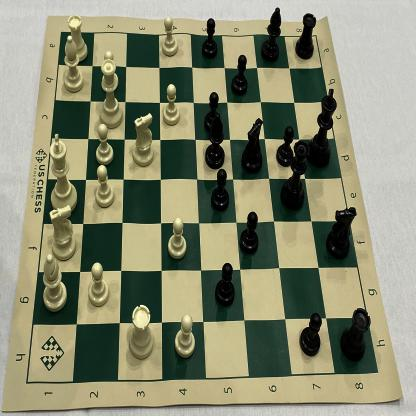bishop: (41, 254, 68, 313), (200, 113, 226, 172), (62, 36, 86, 94), (261, 5, 283, 64)
king: (308, 86, 338, 170), (49, 133, 78, 215)
knight: (46, 204, 78, 260), (326, 206, 358, 260), (130, 111, 156, 169), (240, 116, 264, 175)
pawn: (172, 312, 196, 360), (298, 310, 322, 357), (214, 260, 236, 308), (88, 262, 110, 308), (93, 165, 116, 209), (166, 216, 188, 262), (239, 209, 259, 257), (94, 124, 116, 167), (203, 90, 223, 136), (161, 82, 181, 126), (160, 16, 180, 59), (231, 53, 249, 97), (212, 168, 230, 212), (276, 125, 294, 168), (201, 17, 219, 59), (102, 50, 119, 90)
queen: (96, 60, 126, 130), (282, 140, 310, 210)
rook: (340, 305, 372, 363), (127, 302, 156, 362), (294, 10, 318, 62), (68, 13, 88, 65)
